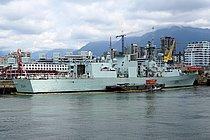MIL_Ship: (15, 50, 197, 93)
